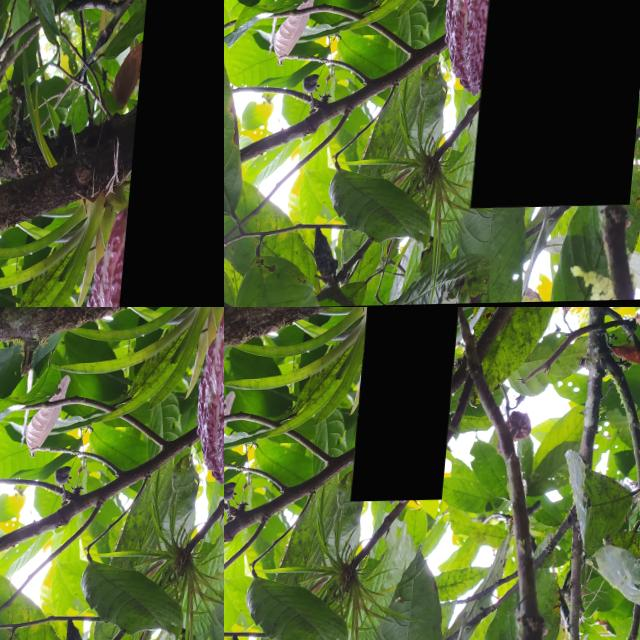Fitoftora: (123, 0, 224, 307)
Sana: (480, 0, 640, 210), (314, 0, 491, 185), (358, 307, 465, 502), (170, 422, 201, 505)
